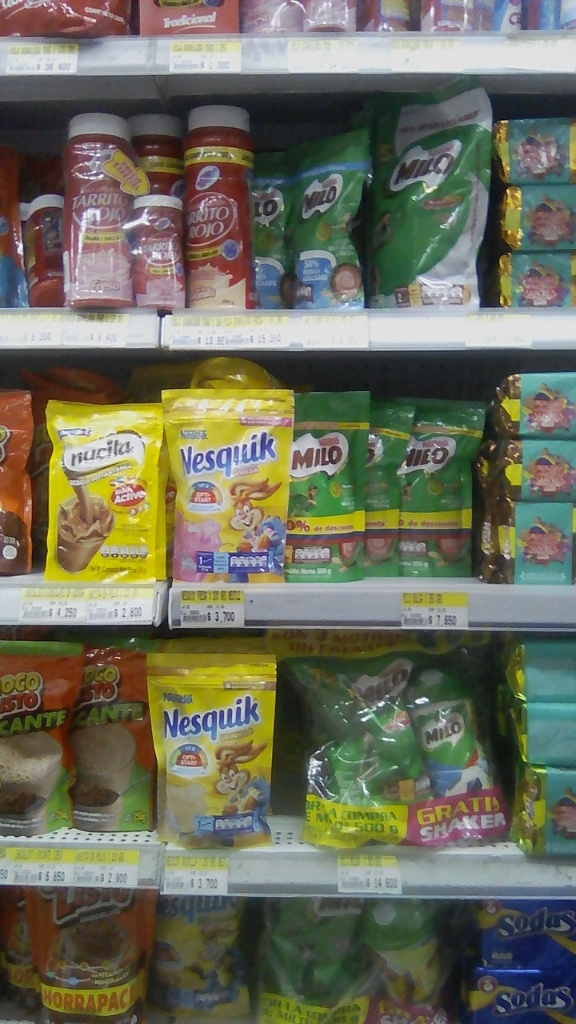COL0170102DYP25000: (71, 635, 160, 835)
COL0170103DYP44000: (22, 885, 149, 1024)
COL0170203DYP25000: (398, 396, 487, 587)
COL0170203DYP50000: (282, 654, 431, 804)
COL0170205DYP20000: (279, 128, 373, 314)
COL0170205DYP50000: (359, 75, 492, 315)
COL0170303DYP20000: (150, 893, 256, 1023)
COL0170305DYP20000: (157, 386, 291, 584)
COL0170306DYP20000: (144, 653, 278, 852)
